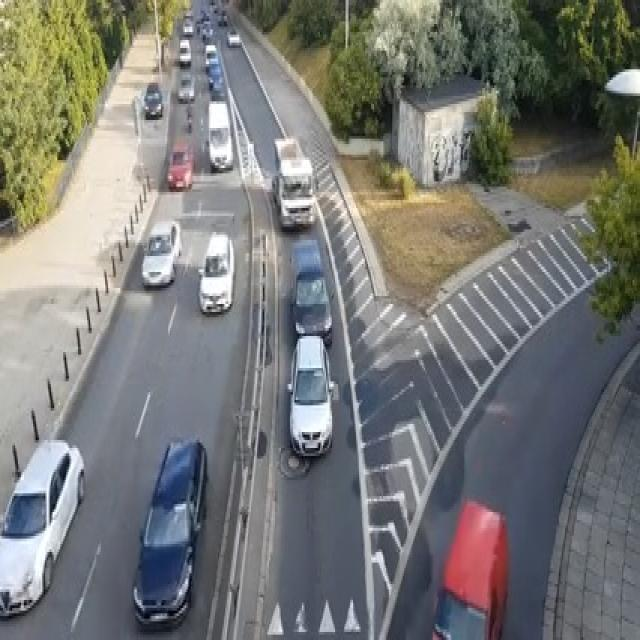car: (0, 437, 86, 619), (132, 434, 208, 626), (431, 499, 508, 637), (287, 333, 333, 456), (288, 237, 332, 344), (197, 229, 234, 315), (141, 219, 182, 288), (207, 98, 233, 170), (167, 144, 194, 189), (142, 80, 164, 117), (177, 72, 194, 101), (204, 43, 218, 72), (208, 61, 222, 88), (179, 37, 191, 67), (226, 24, 240, 45), (202, 19, 214, 40), (182, 16, 192, 35), (218, 8, 227, 24)
truck: (270, 136, 314, 229)
